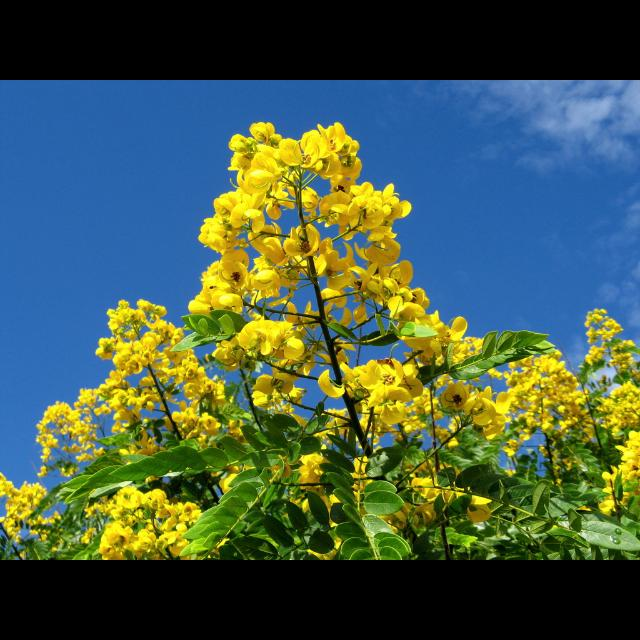Flower: (1, 122, 640, 560), (346, 358, 414, 410)
